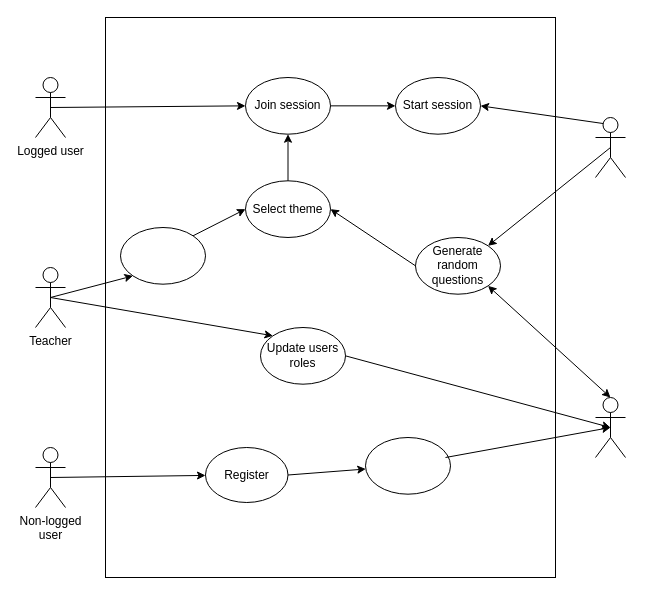
The diagram is 657 pixels wide and 595 high, and some of its shapes have lost their labels. The shapes that lost their labels are listed below. From the top down, each one's centre as x and y in pixels, then its label:
At point 610,147: "Application".
At point 163,255: "Create game session".
At point 610,427: "Database".
At point 407,465: "Update user table".
